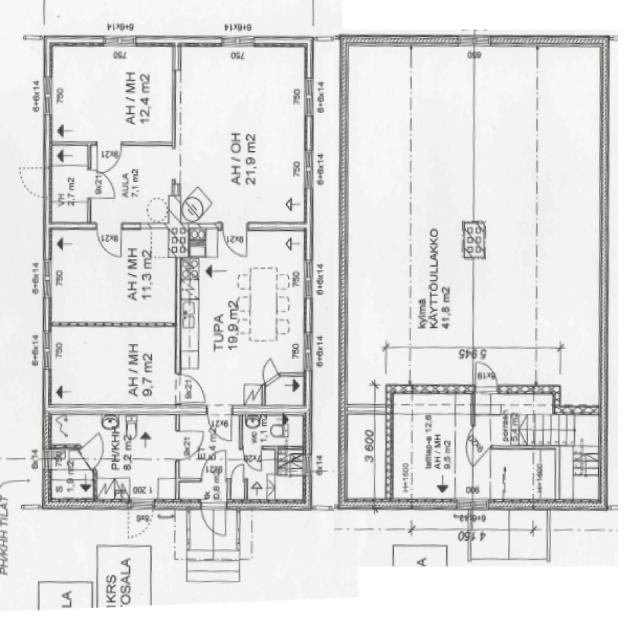door: (48, 144, 93, 226), (236, 452, 276, 502), (174, 372, 208, 411), (206, 406, 235, 445), (199, 501, 228, 539), (200, 448, 229, 486), (17, 166, 49, 200), (88, 168, 119, 201), (221, 225, 249, 260), (128, 502, 154, 539), (91, 144, 123, 174), (472, 359, 499, 392), (177, 429, 204, 462), (96, 228, 123, 259), (466, 437, 489, 467), (242, 448, 262, 472), (228, 462, 246, 483)
window: (301, 255, 316, 303), (302, 72, 316, 120), (302, 145, 316, 191), (40, 327, 54, 373), (40, 255, 54, 301), (42, 72, 55, 115), (301, 330, 314, 373), (220, 35, 257, 48), (102, 34, 138, 47)
zone: (176, 43, 309, 229), (178, 232, 306, 412), (48, 43, 176, 146), (46, 231, 180, 327), (45, 327, 179, 410), (390, 389, 474, 504), (96, 412, 180, 503), (480, 447, 559, 506), (344, 410, 391, 506), (48, 143, 94, 225), (548, 444, 602, 507), (240, 411, 309, 451), (48, 412, 108, 454), (46, 462, 96, 506), (237, 452, 277, 503), (191, 451, 229, 503), (262, 373, 308, 410), (174, 372, 209, 410)
